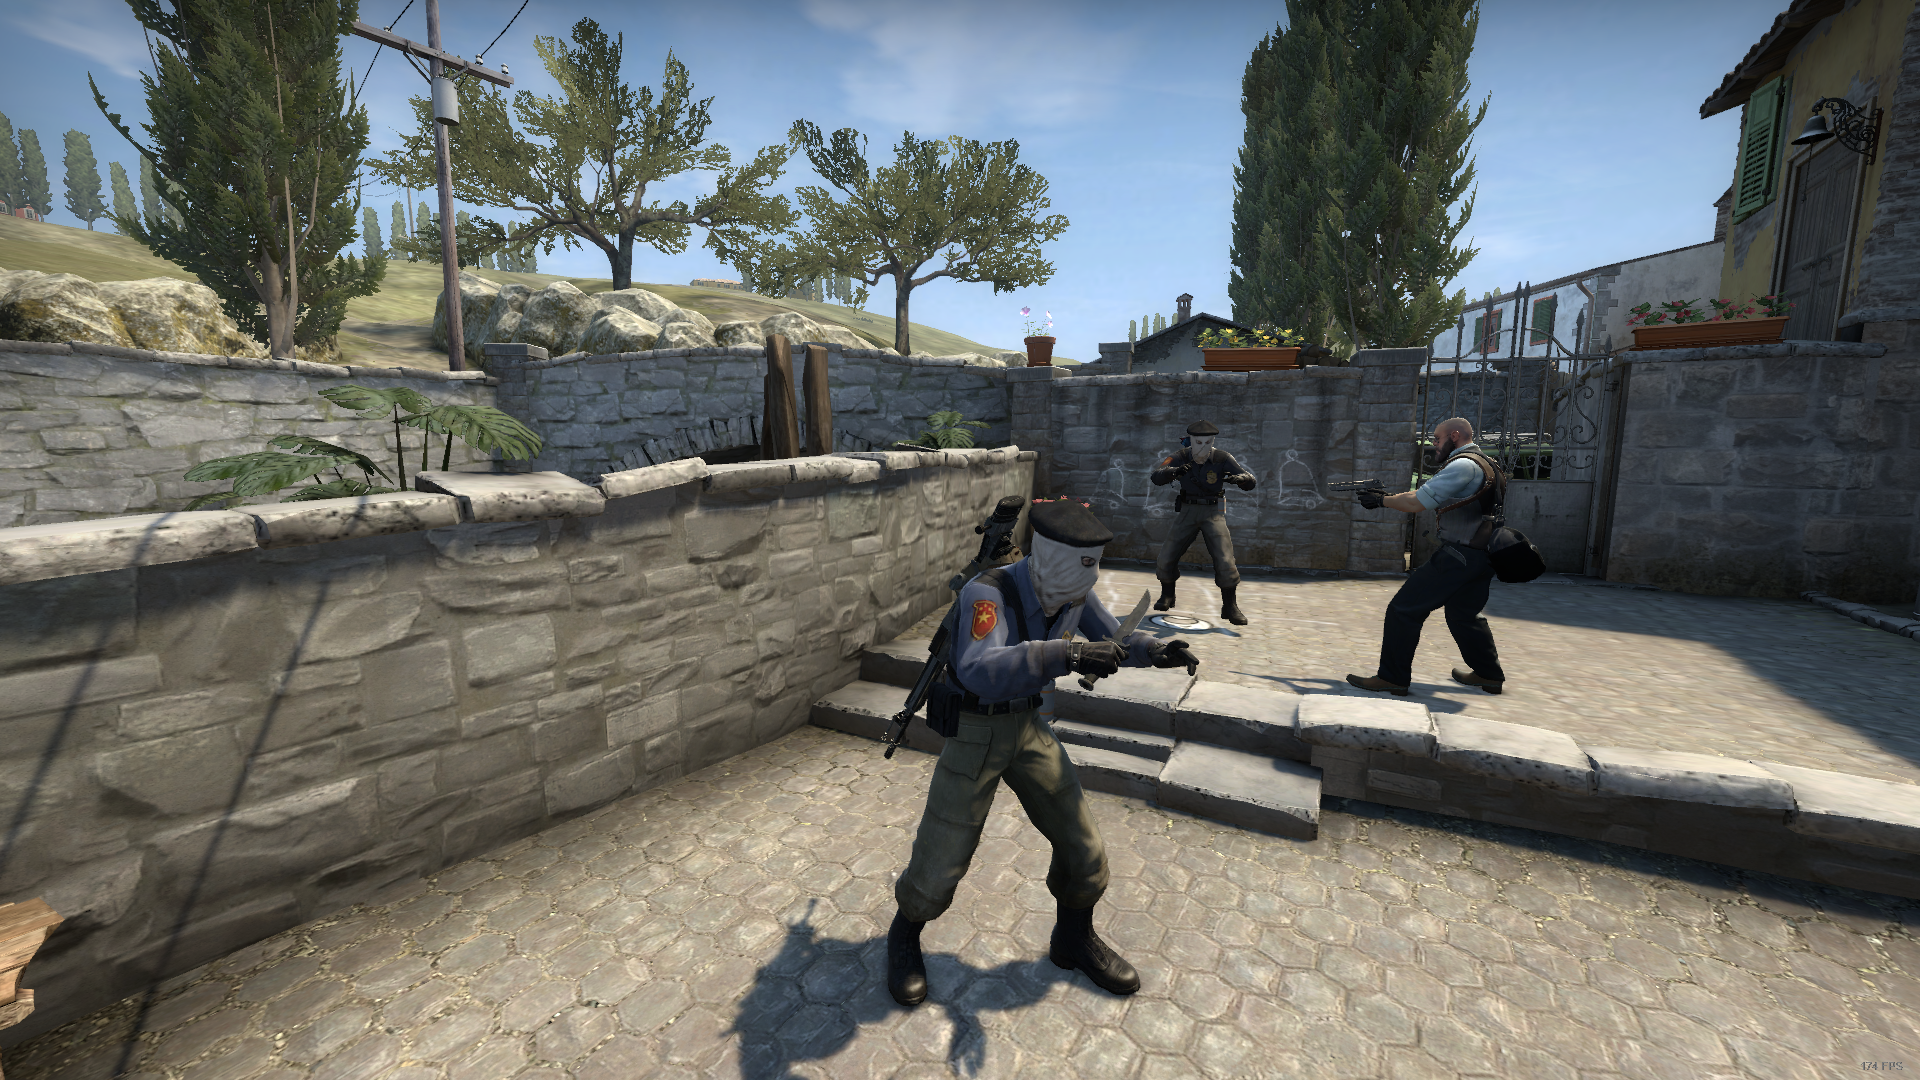t: (886, 498, 1203, 1025), (1153, 417, 1257, 630)
